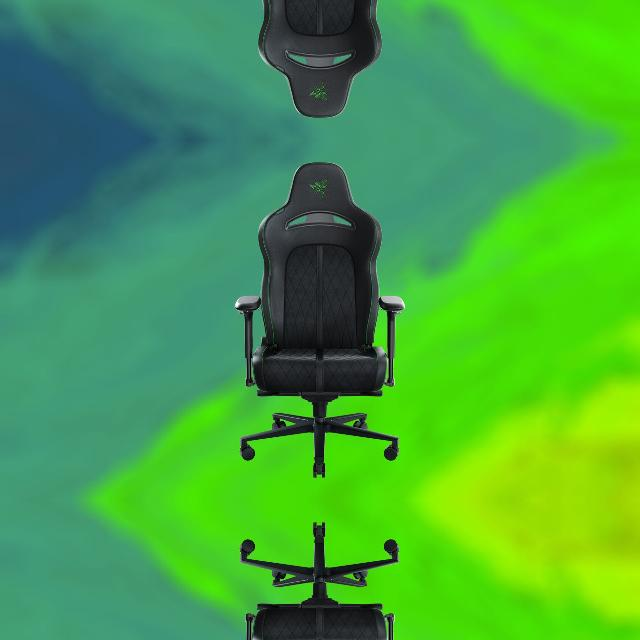obstacle: (216, 148, 434, 484), (215, 0, 434, 131), (215, 516, 434, 640)
